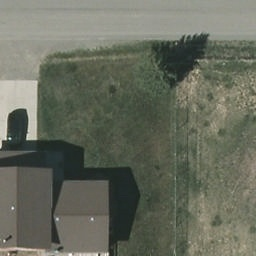car: (8, 113, 24, 152)
